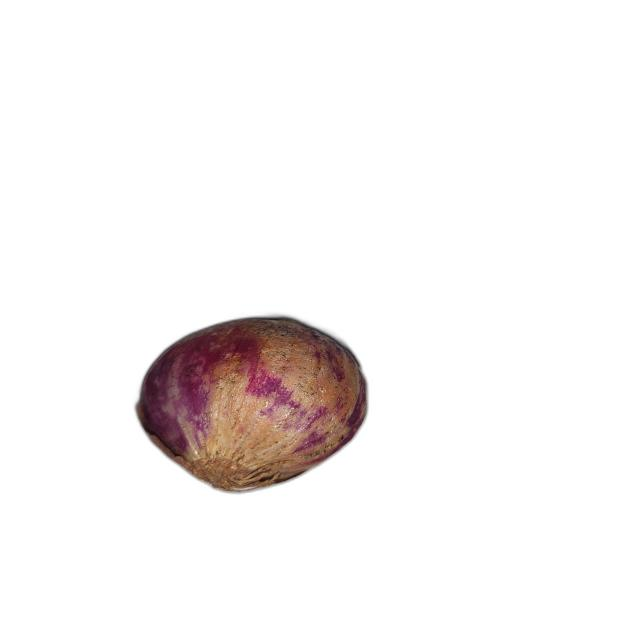onion: (134, 318, 373, 496)
